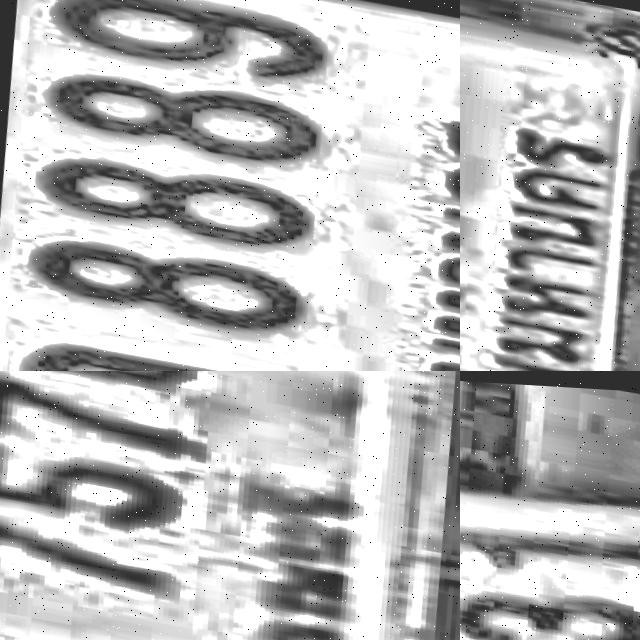license-plate: (0, 0, 460, 371), (0, 371, 458, 640), (460, 0, 640, 371), (460, 395, 640, 640)
